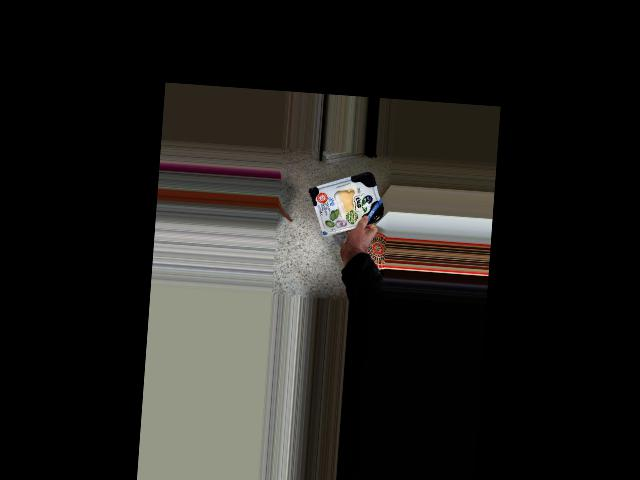cheese: (313, 181, 377, 233)
